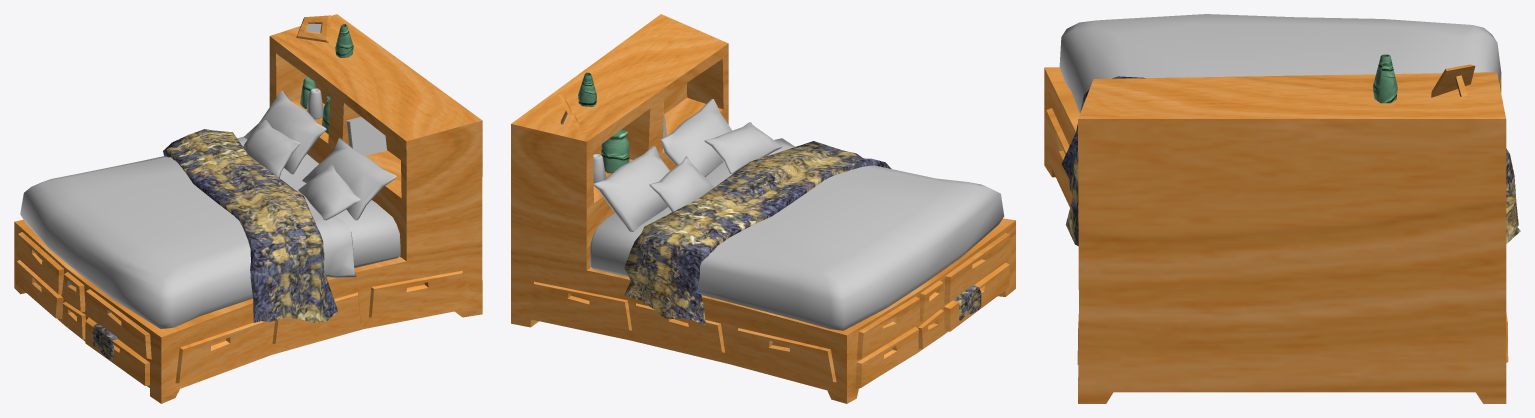
Rendered from cama.obj.
3 views of the same model, side by side, from view 1: azimuth 30°, elevation 25°; view 2: azimuth 150°, elevation 25°; view 3: azimuth 270°, elevation 25° (orthographic). The views are drawn at different scales.
Visible parts, largest first — view 1: cama_techo_buro_escaleras:polySurface1146 polySurface4860, cama_techo_buro_escaleras:polySurface1146 polySurface4868, cama_techo_buro_escaleras:polySurface1146 polySurface4866, cama_techo_buro_escaleras:polySurface1146 polySurface4718, cama_techo_buro_escaleras:polySurface1146 polySurface4879, cama_techo_buro_escaleras:polySurface1146 polySurface4858, cama_techo_buro_escaleras:polySurface1146 polySurface4871, cama_techo_buro_escaleras:polySurface1146 polySurface4882, cama_techo_buro_escaleras:polySurface1146 polySurface4881, cama_techo_buro_escaleras:polySurface1146 polySurface4859, cama_techo_buro_escaleras:polySurface1146 polySurface4862, cama_techo_buro_escaleras:polySurface1146 polySurface4850 (+12 smaller); view 2: cama_techo_buro_escaleras:polySurface1146 polySurface4860, cama_techo_buro_escaleras:polySurface1146 polySurface4869, cama_techo_buro_escaleras:polySurface1146 polySurface4866, cama_techo_buro_escaleras:polySurface1146 polySurface4718, cama_techo_buro_escaleras:polySurface1146 polySurface4879, cama_techo_buro_escaleras:polySurface1146 polySurface4881, cama_techo_buro_escaleras:polySurface1146 polySurface4858, cama_techo_buro_escaleras:polySurface1146 polySurface4872, cama_techo_buro_escaleras:polySurface1146 polySurface4873, cama_techo_buro_escaleras:polySurface1146 polySurface4862, cama_techo_buro_escaleras:polySurface1146 polySurface4884, cama_techo_buro_escaleras:polySurface1146 polySurface4859 (+14 smaller); view 3: cama_techo_buro_escaleras:polySurface1146 polySurface4851, cama_techo_buro_escaleras:polySurface1146 polySurface4860, cama_techo_buro_escaleras:polySurface1146 polySurface4718, cama_techo_buro_escaleras:polySurface1146 polySurface4866, cama_techo_buro_escaleras:polySurface1146 polySurface4868, cama_techo_buro_escaleras:polySurface1146 polySurface4882, cama_techo_buro_escaleras:polySurface1146 polySurface4864, cama_techo_buro_escaleras:polySurface1146 polySurface4850, cama_techo_buro_escaleras:polySurface1146 polySurface4838.
Boxes of the visible parts, box(x1,y1,x2,y2) form: cama_techo_buro_escaleras:polySurface1146 polySurface4860: box(20, 136, 401, 328); cama_techo_buro_escaleras:polySurface1146 polySurface4868: box(161, 120, 482, 403); cama_techo_buro_escaleras:polySurface1146 polySurface4866: box(163, 129, 337, 322); cama_techo_buro_escaleras:polySurface1146 polySurface4718: box(270, 14, 482, 141); cama_techo_buro_escaleras:polySurface1146 polySurface4879: box(269, 36, 406, 260); cama_techo_buro_escaleras:polySurface1146 polySurface4858: box(302, 137, 396, 220); cama_techo_buro_escaleras:polySurface1146 polySurface4871: box(371, 273, 466, 317); cama_techo_buro_escaleras:polySurface1146 polySurface4882: box(179, 322, 266, 382); cama_techo_buro_escaleras:polySurface1146 polySurface4881: box(244, 90, 326, 174); cama_techo_buro_escaleras:polySurface1146 polySurface4859: box(298, 164, 360, 220); cama_techo_buro_escaleras:polySurface1146 polySurface4862: box(14, 222, 161, 403); cama_techo_buro_escaleras:polySurface1146 polySurface4850: box(15, 219, 406, 337); cama_techo_buro_escaleras:polySurface1146 polySurface4860: box(590, 138, 1004, 330); cama_techo_buro_escaleras:polySurface1146 polySurface4869: box(511, 124, 846, 403); cama_techo_buro_escaleras:polySurface1146 polySurface4866: box(624, 141, 891, 325); cama_techo_buro_escaleras:polySurface1146 polySurface4718: box(511, 14, 728, 141); cama_techo_buro_escaleras:polySurface1146 polySurface4879: box(586, 43, 728, 269); cama_techo_buro_escaleras:polySurface1146 polySurface4881: box(593, 146, 669, 231); cama_techo_buro_escaleras:polySurface1146 polySurface4858: box(660, 99, 731, 176); cama_techo_buro_escaleras:polySurface1146 polySurface4872: box(730, 330, 832, 381); cama_techo_buro_escaleras:polySurface1146 polySurface4873: box(530, 284, 628, 329); cama_techo_buro_escaleras:polySurface1146 polySurface4862: box(847, 220, 1015, 403); cama_techo_buro_escaleras:polySurface1146 polySurface4884: box(636, 305, 721, 352); cama_techo_buro_escaleras:polySurface1146 polySurface4859: box(704, 122, 781, 173); cama_techo_buro_escaleras:polySurface1146 polySurface4851: box(1078, 119, 1506, 403); cama_techo_buro_escaleras:polySurface1146 polySurface4860: box(1059, 14, 1501, 206); cama_techo_buro_escaleras:polySurface1146 polySurface4718: box(1078, 72, 1505, 118); cama_techo_buro_escaleras:polySurface1146 polySurface4866: box(1061, 76, 1520, 246); cama_techo_buro_escaleras:polySurface1146 polySurface4868: box(1044, 68, 1075, 207); cama_techo_buro_escaleras:polySurface1146 polySurface4882: box(1045, 111, 1072, 203); cama_techo_buro_escaleras:polySurface1146 polySurface4864: box(1372, 54, 1397, 103); cama_techo_buro_escaleras:polySurface1146 polySurface4850: box(1044, 67, 1500, 131); cama_techo_buro_escaleras:polySurface1146 polySurface4838: box(1431, 66, 1475, 97).
Bounding box in the file's own units: 2.78 × 1.72 × 2.28.
